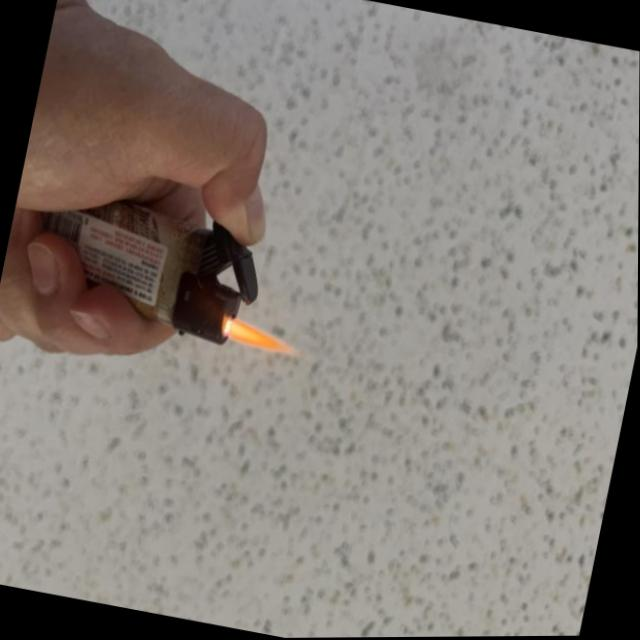Fire: (222, 318, 294, 357)
